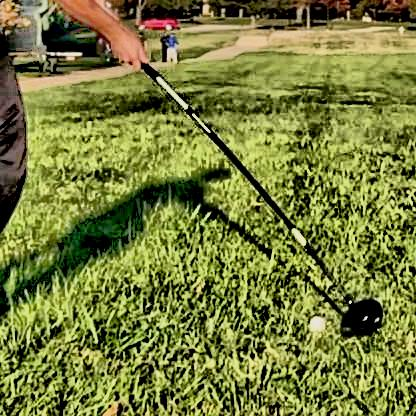golfball: (305, 311, 322, 328)
